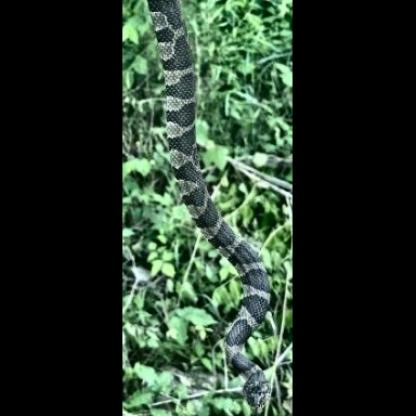Snake: (133, 0, 291, 380)
